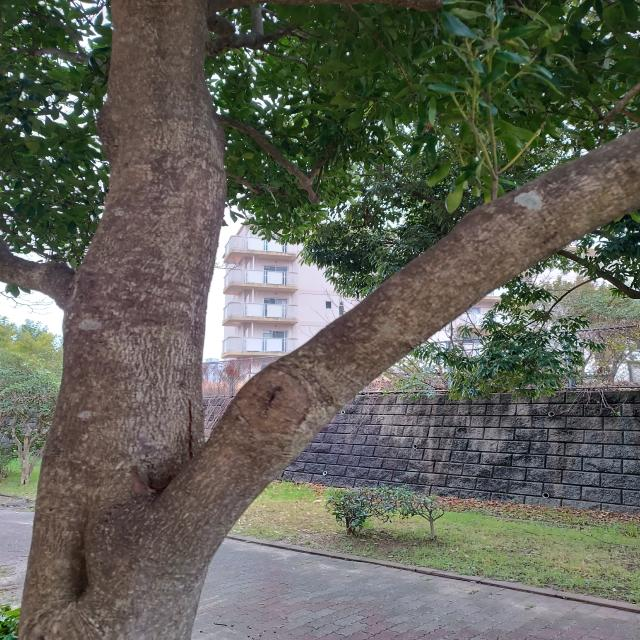Branch: (158, 132, 640, 546), (1, 239, 76, 306)
Twig: (224, 115, 329, 208)
